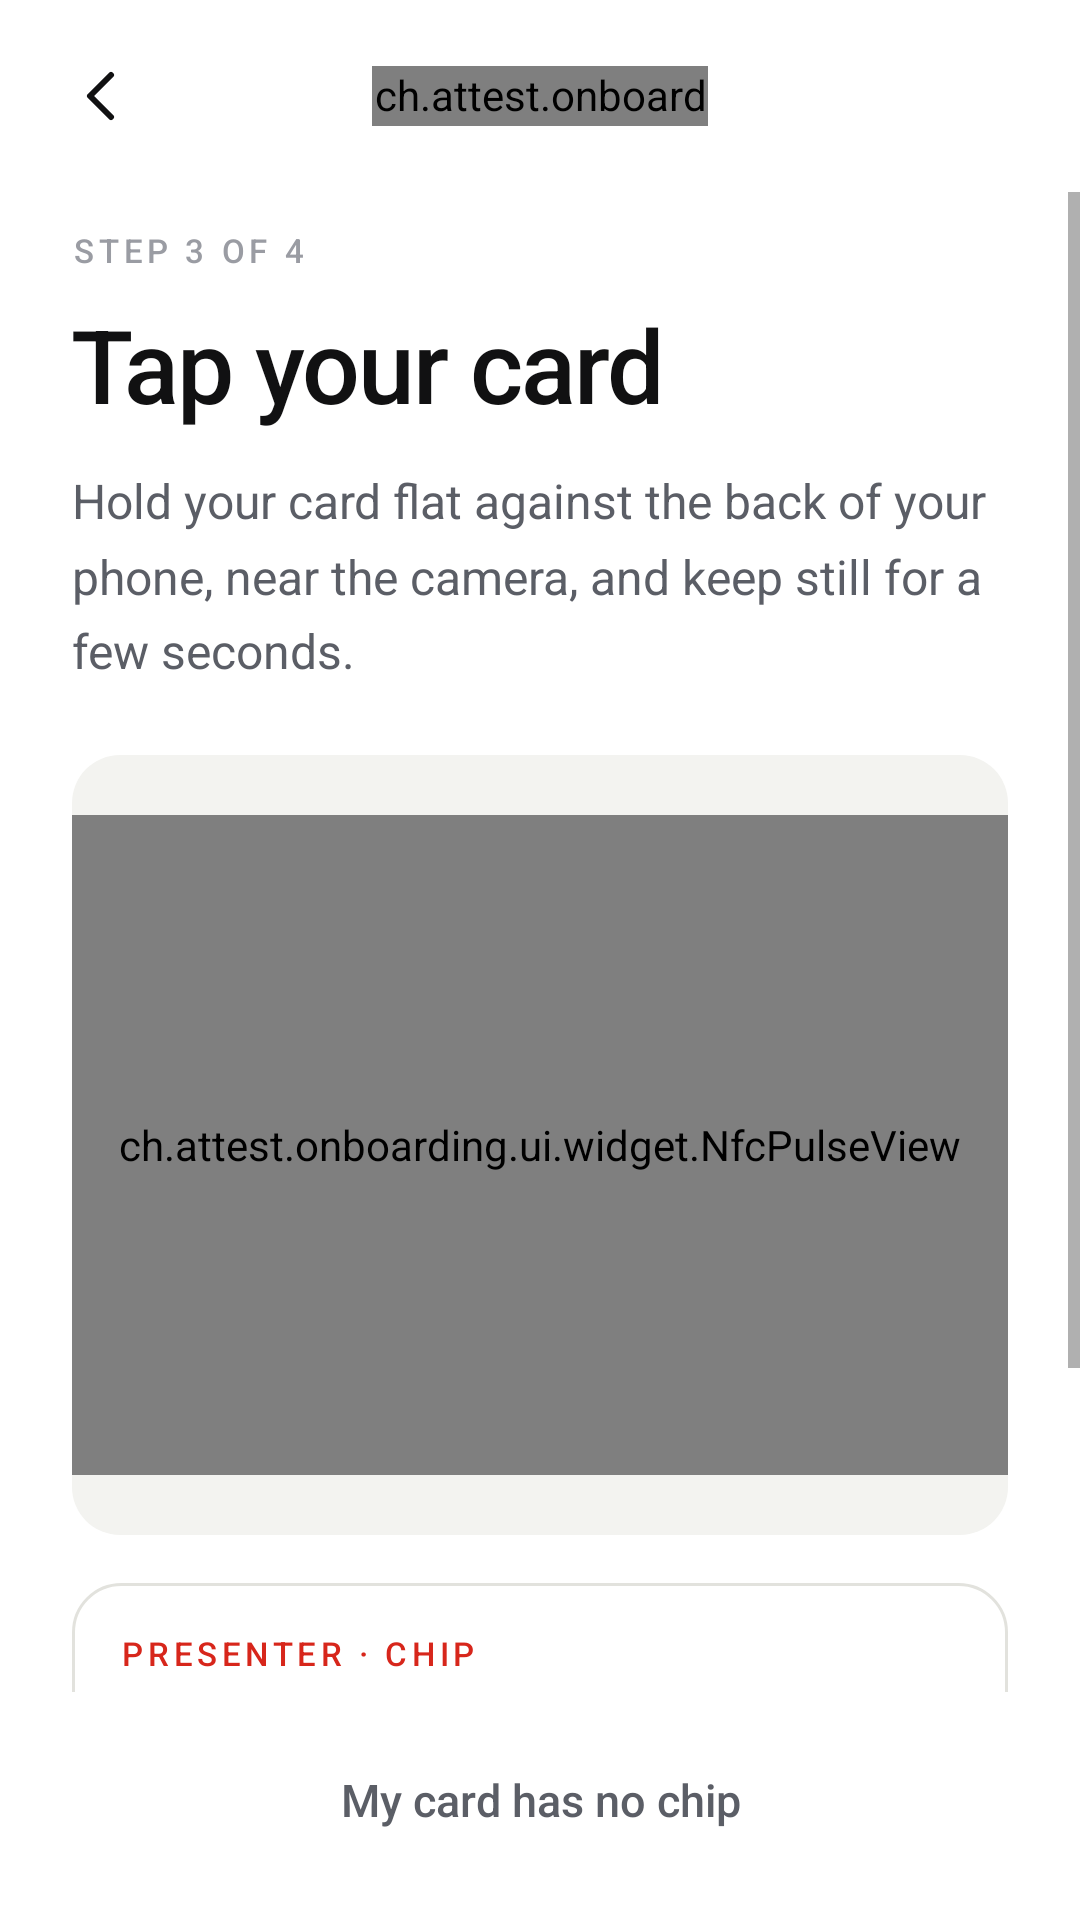

Icon click points for this 1080 × 1920 phone screenshot, format (x,y):
Back: (100,96)
